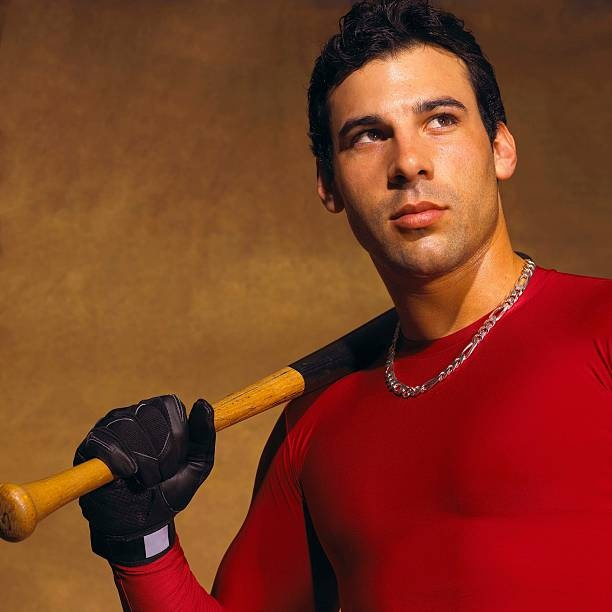bita: (1, 304, 399, 544)
